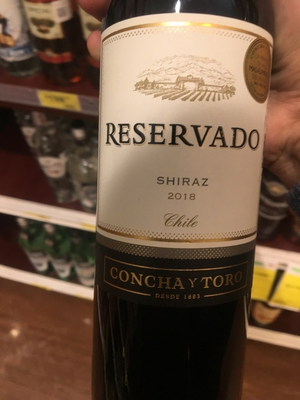reservado shiraz: (88, 27, 272, 400)
